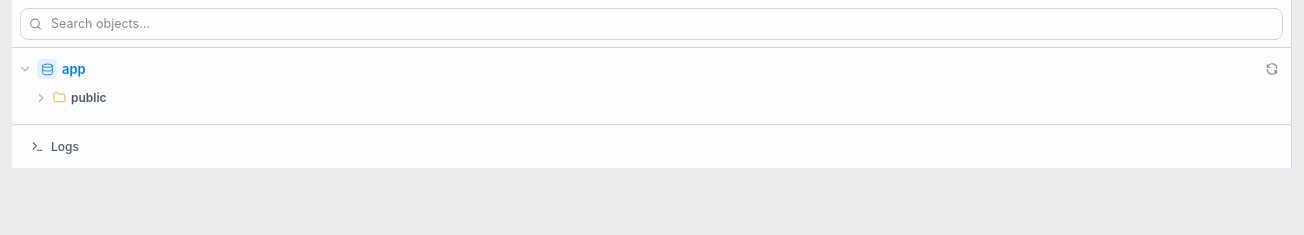
Sidebar explorer › sets aria-expanded attribute on database and schema toggle buttons
Expected: the text "app" is shown, [62,61,86,77]
Expected: the field labelled "Search objects" is shown, [20,8,1283,40]
Click the button "public" at (89, 98), box [18,84,1291,112]
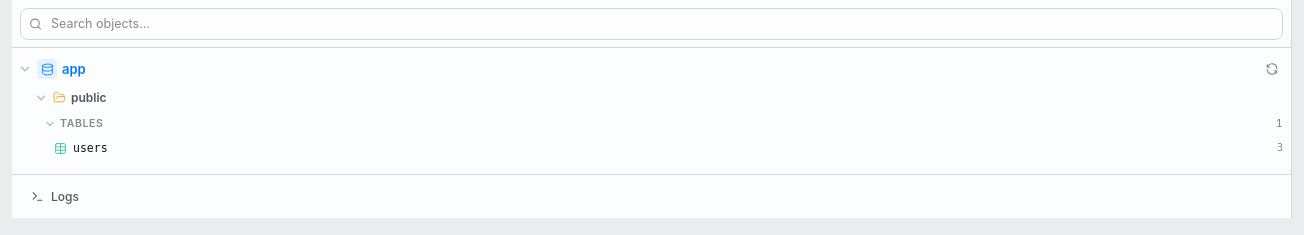
Expected: the button "public" is expanded, [18,84,1291,112]
